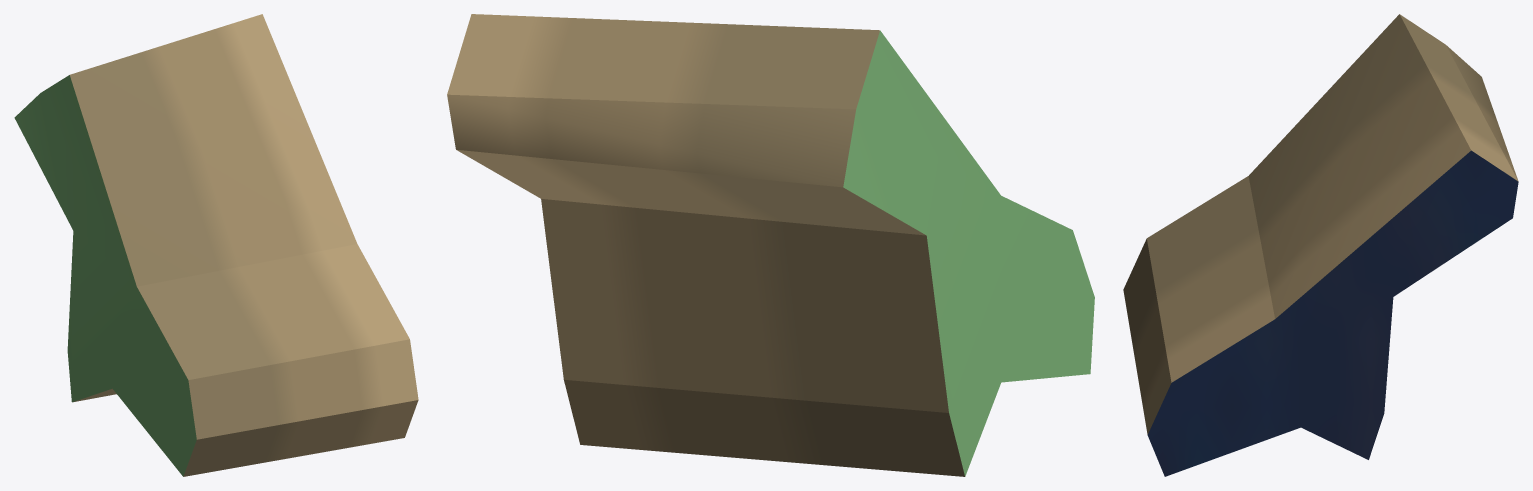
Rendered from 05e3_Costa_Rica.glb.
3 views of the same model, side by side, from view 1: azimuth 30°, elevation 25°; view 2: azimuth 150°, elevation 25°; view 3: azimuth 270°, elevation 25° (orthographic). The views are drawn at different scales.
Visible parts, largest first — view 1: part_0; view 2: part_0; view 3: part_0.
Part boxes in pixels (x1,y1,x2,y2): part_0: (14, 14, 418, 476); part_0: (447, 14, 1094, 476); part_0: (1123, 14, 1518, 476).
Bounding box in the file's own units: 0.2184 × 0.272 × 0.2787.
1 material, 1 textured.
